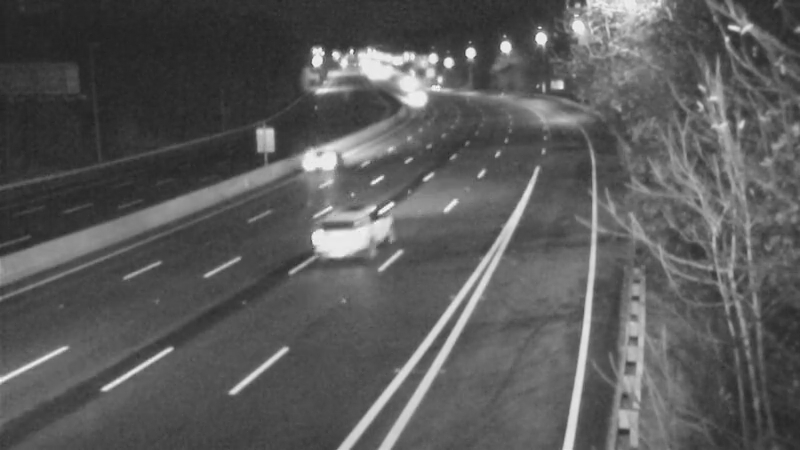vehicle: (274, 114, 354, 194), (304, 188, 384, 268), (411, 63, 461, 113), (391, 76, 441, 126)
